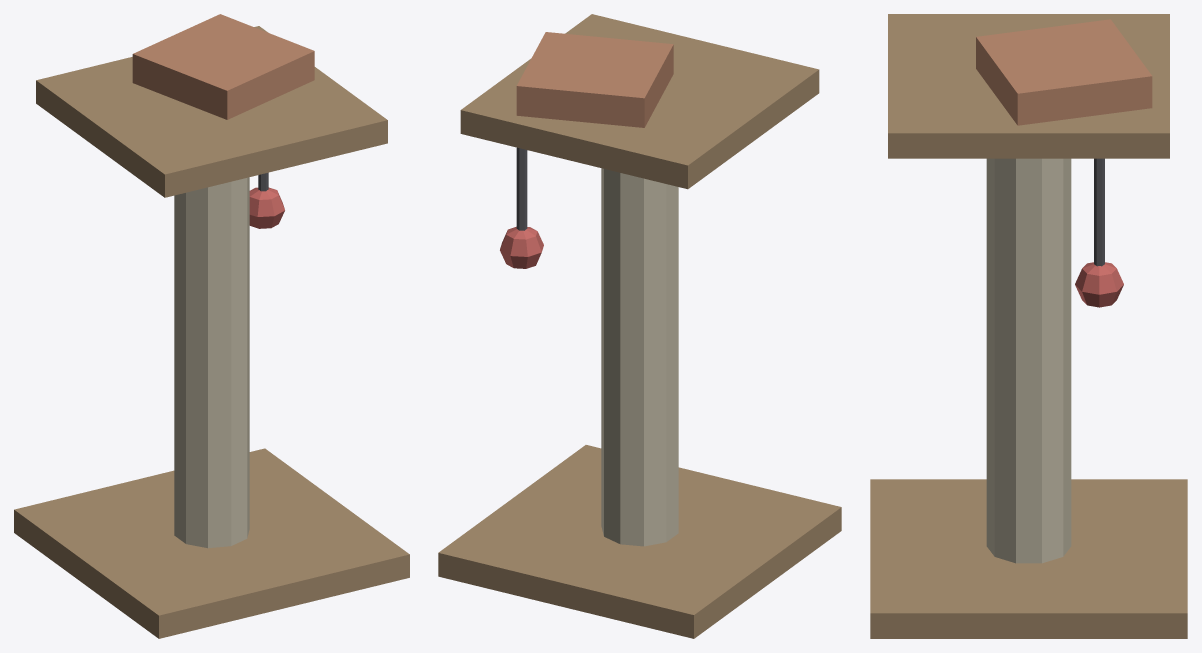
Rendered from pets_arranhador.glb.
The picture shows the model from 3 angles, left to right: view 1: azimuth 30°, elevation 25°; view 2: azimuth 150°, elevation 25°; view 3: azimuth 270°, elevation 25°; orthographic projection. The views are drawn at different scales.
Visible parts, largest first — view 1: PETS_ARRANHADOR_v01; view 2: PETS_ARRANHADOR_v01; view 3: PETS_ARRANHADOR_v01.
Boxes of the visible parts, x1,y1,x2,y2 form: PETS_ARRANHADOR_v01: [14, 14, 409, 638]; PETS_ARRANHADOR_v01: [438, 14, 841, 638]; PETS_ARRANHADOR_v01: [870, 14, 1187, 638].
Size of the model in its own units: 0.45 by 0.83 by 0.45.
